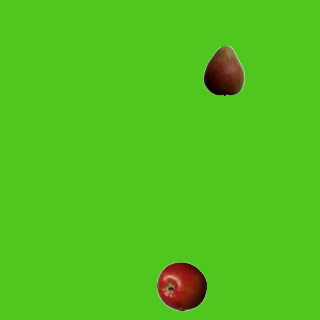Apple Braeburn: (156, 261, 206, 311)
Pear Forelle: (198, 45, 248, 95)
